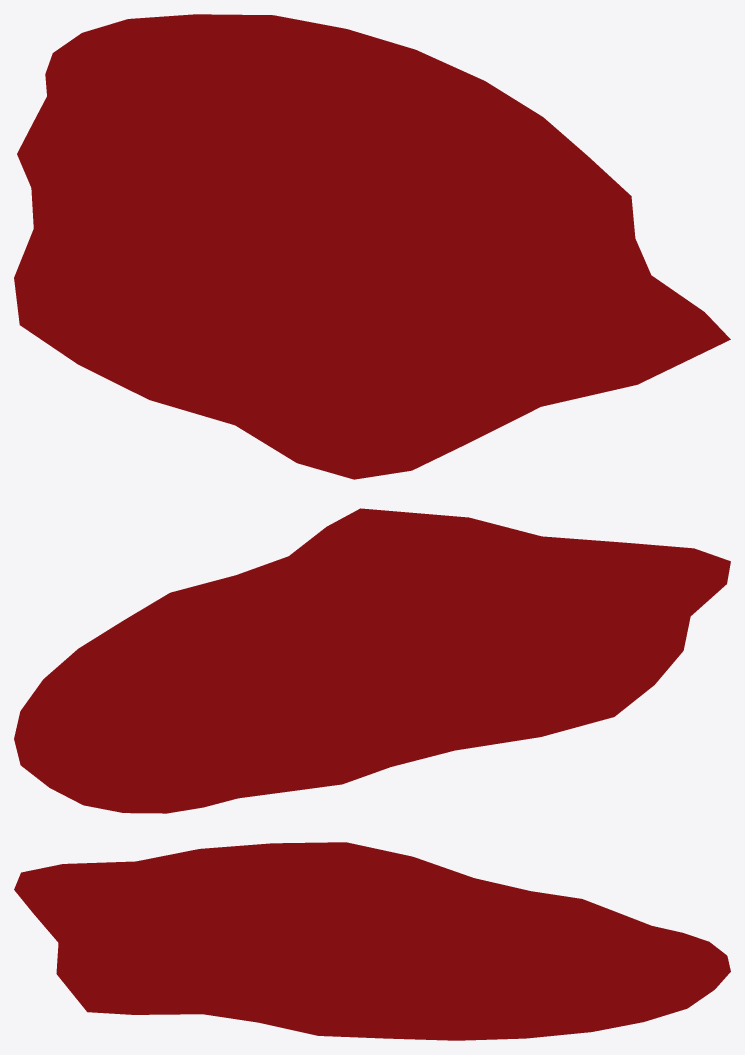
Rendered from ChadBlood.fbx.
3 renders of one model, top to bottom at view 1: azimuth 30°, elevation 25°; view 2: azimuth 150°, elevation 25°; view 3: azimuth 270°, elevation 25°, orthographic. The views are drawn at different scales.
Visible parts, largest first — view 1: ChadBlood; view 2: ChadBlood; view 3: ChadBlood.
Boxes of the visible parts, x1,y1,x2,y2 form: ChadBlood: [14, 14, 730, 479]; ChadBlood: [14, 508, 730, 813]; ChadBlood: [14, 842, 730, 1040].
Bounding box in the file's own units: 130 × 3.21e-05 × 199.
